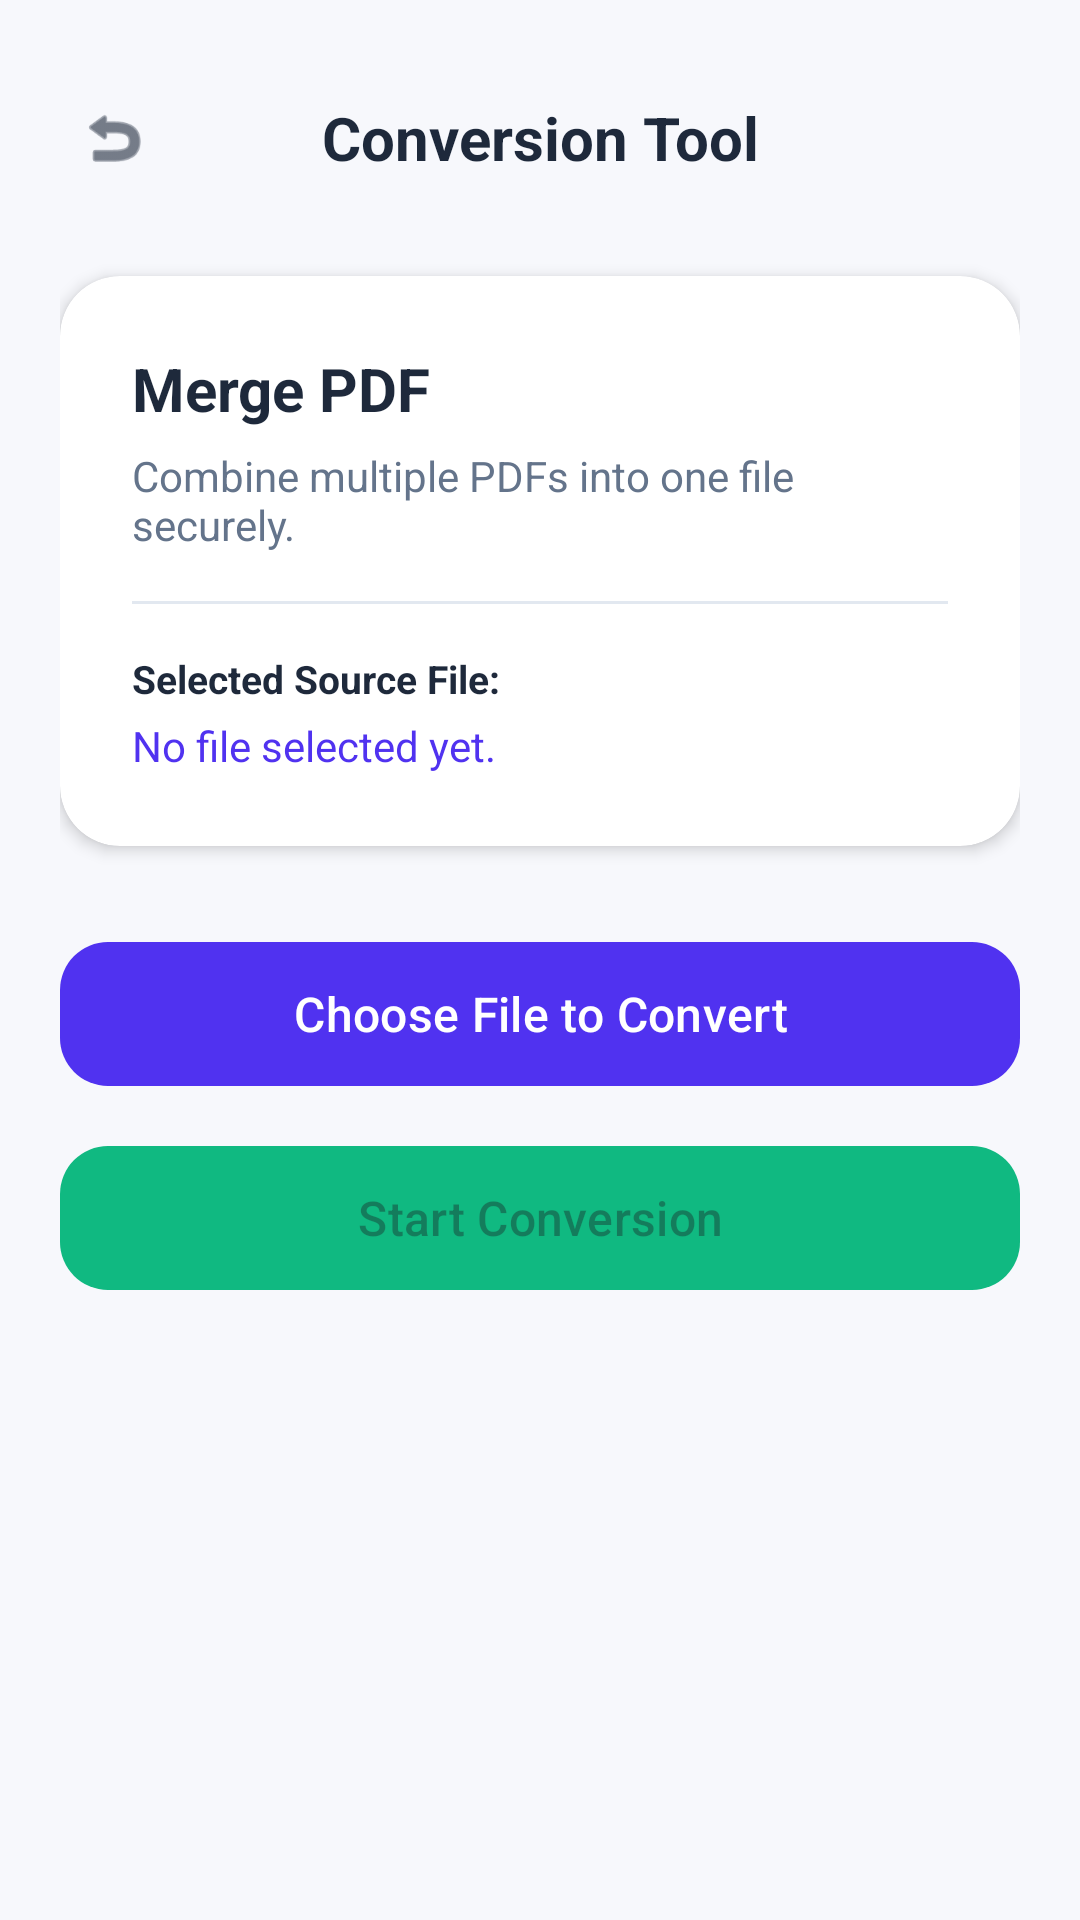

Where to tap for icons on this 1080×1920 app screen, as point (x, y):
Back: point (115, 138)
